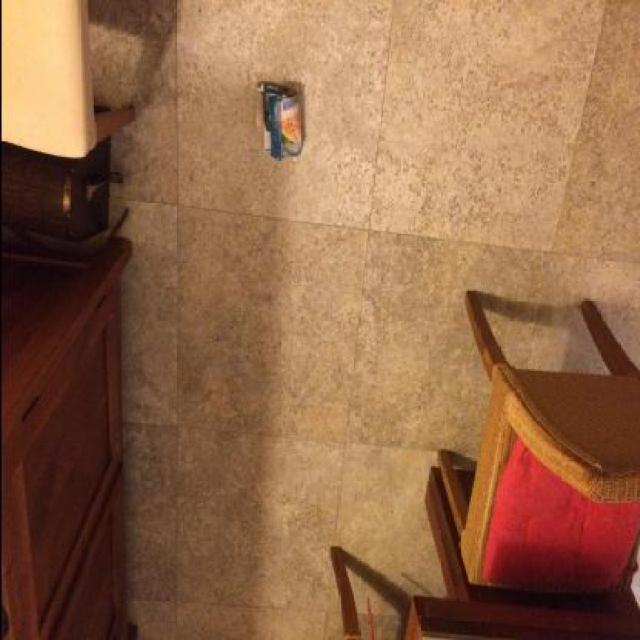cardboard: (256, 82, 302, 160)
